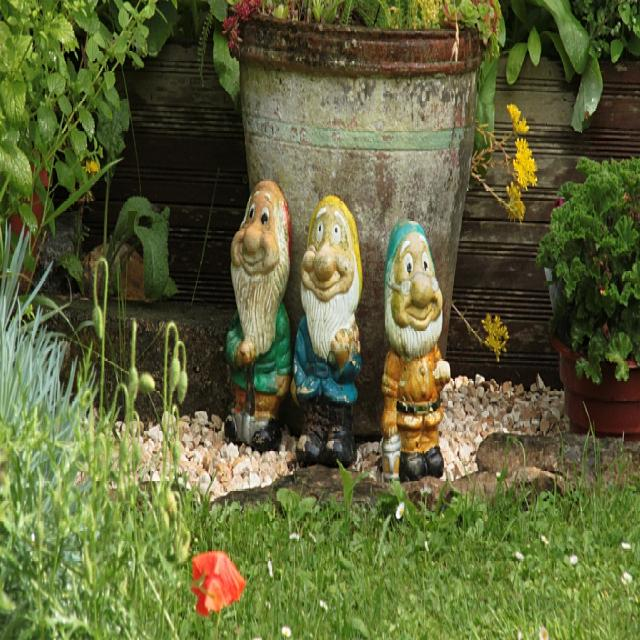Toy: (290, 195, 362, 469), (380, 216, 451, 483), (224, 179, 291, 451)
